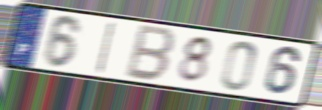0: (220, 39, 259, 92)
6: (40, 14, 86, 70), (263, 44, 302, 98)
8: (175, 35, 212, 85)
B: (122, 23, 179, 84)
I: (93, 20, 118, 75)
